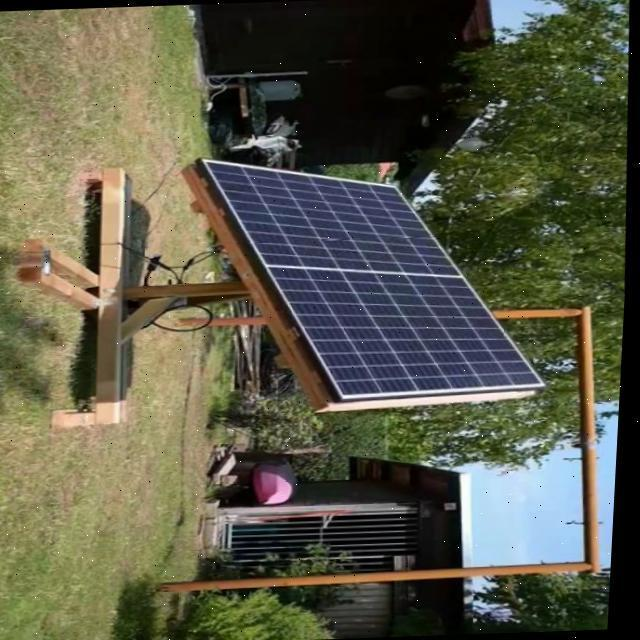Normal Solar Panel: (194, 149, 554, 406)
